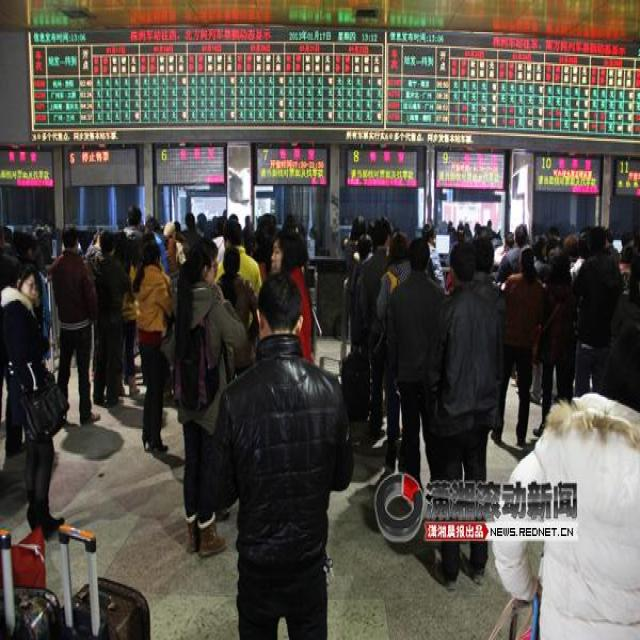non-fight: (210, 263, 356, 639), (378, 230, 443, 496), (496, 226, 549, 448), (45, 224, 101, 430), (128, 225, 176, 460)
